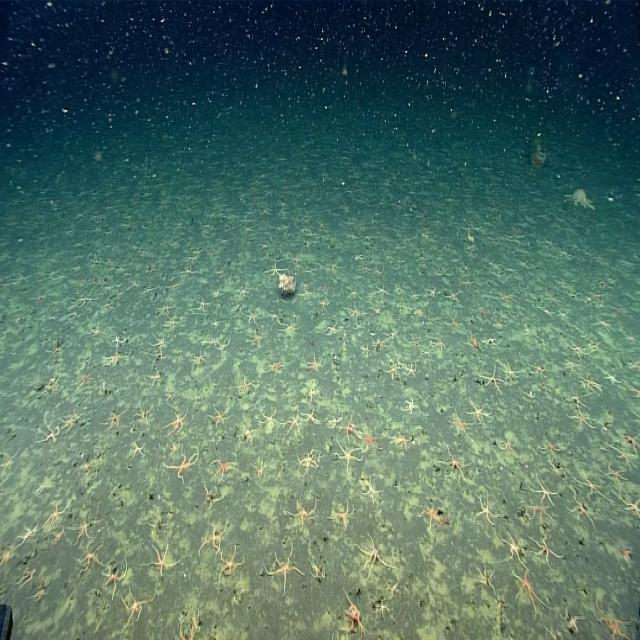brittle-stars: (259, 534, 306, 596), (136, 530, 190, 580), (508, 562, 552, 620), (469, 477, 513, 532), (353, 527, 395, 584), (329, 589, 372, 640), (120, 582, 160, 632), (528, 520, 570, 566), (282, 488, 322, 536), (98, 552, 134, 605), (162, 443, 204, 488), (563, 486, 598, 532), (594, 600, 634, 640), (321, 496, 360, 536), (68, 540, 106, 581), (199, 513, 236, 555), (528, 468, 567, 506), (558, 181, 598, 217), (160, 405, 197, 443), (438, 443, 472, 484), (216, 542, 246, 588), (470, 556, 501, 599), (97, 402, 130, 442), (500, 526, 530, 570), (574, 468, 612, 502), (68, 510, 100, 550), (204, 450, 241, 484), (293, 443, 324, 483), (416, 500, 451, 534), (476, 355, 505, 395), (331, 446, 365, 478), (560, 597, 588, 633), (610, 439, 638, 474), (522, 503, 559, 529), (360, 470, 384, 510), (178, 605, 205, 640), (16, 515, 40, 554), (70, 362, 96, 398), (445, 408, 474, 440), (464, 392, 492, 425), (534, 436, 564, 465), (306, 552, 330, 588), (614, 536, 638, 572), (197, 481, 223, 514), (101, 346, 129, 376), (263, 351, 289, 383), (257, 401, 283, 432), (0, 446, 23, 481), (284, 404, 304, 444), (361, 429, 388, 458), (0, 538, 19, 578), (233, 368, 255, 402), (141, 366, 173, 389), (567, 408, 594, 435), (134, 400, 156, 433), (60, 403, 82, 436), (183, 352, 212, 377), (387, 430, 417, 454), (209, 400, 232, 431), (339, 412, 362, 443), (48, 523, 68, 558), (42, 502, 67, 530), (262, 259, 290, 284), (402, 353, 426, 382), (604, 461, 628, 490), (248, 456, 271, 486), (15, 558, 35, 592), (36, 424, 62, 450), (195, 334, 232, 352), (623, 487, 640, 526), (238, 419, 260, 449), (40, 371, 62, 400), (278, 315, 300, 344), (503, 352, 524, 382), (237, 302, 262, 327), (28, 584, 54, 608), (617, 374, 640, 401), (65, 294, 99, 312), (128, 438, 148, 468), (398, 395, 424, 418), (382, 356, 402, 384), (300, 404, 324, 426), (342, 302, 364, 326), (560, 354, 584, 376), (184, 297, 214, 314), (428, 335, 452, 356), (246, 330, 269, 351), (324, 410, 345, 433), (374, 592, 389, 624), (623, 422, 640, 450), (323, 315, 342, 340), (372, 280, 394, 301), (149, 330, 170, 351), (30, 476, 50, 498), (154, 298, 176, 318), (298, 282, 318, 304), (498, 431, 516, 454), (108, 331, 132, 348), (407, 331, 425, 353), (567, 388, 587, 407), (461, 333, 481, 352), (531, 359, 549, 380), (305, 354, 322, 376), (343, 282, 361, 302), (44, 342, 66, 358), (149, 347, 168, 365), (303, 382, 320, 402), (583, 374, 603, 391), (389, 576, 404, 598), (370, 260, 388, 278), (234, 282, 253, 299), (479, 337, 502, 351), (606, 369, 622, 389), (179, 264, 200, 279), (439, 317, 460, 332), (358, 341, 372, 362), (208, 288, 226, 304), (316, 298, 334, 314), (440, 291, 462, 304), (596, 418, 610, 438), (522, 386, 540, 401), (162, 318, 180, 332), (360, 258, 372, 278), (266, 308, 280, 324), (426, 284, 442, 297), (89, 323, 99, 341), (210, 317, 221, 332)
